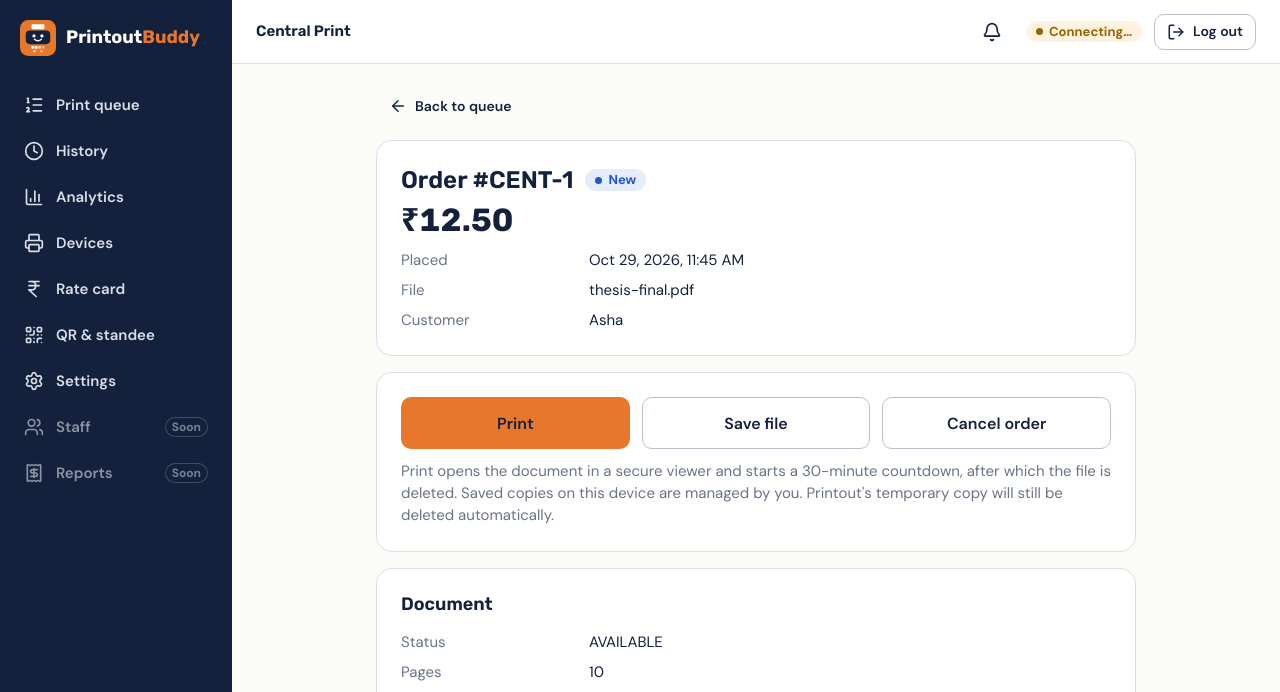
Test case: order detail › handles RATE_LIMITED from Print with a readable banner
Step 1. Click the button "Print" → (515, 423), box [401, 397, 630, 449]
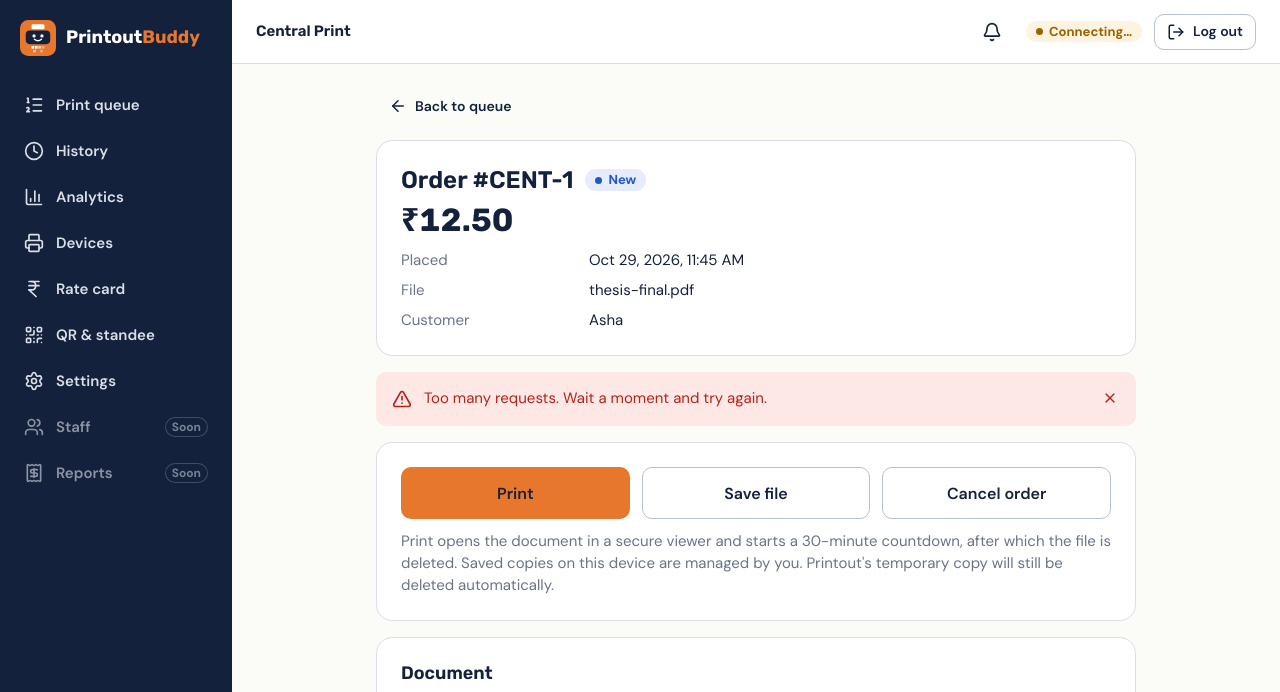
Result: the message "Too many requests. Wait a moment and try again." is shown at [376, 372, 1136, 426]
